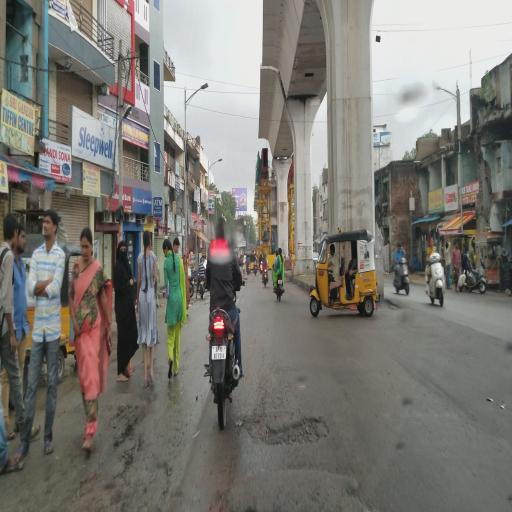street_light_0: (204, 149, 229, 173), (184, 76, 210, 96)
